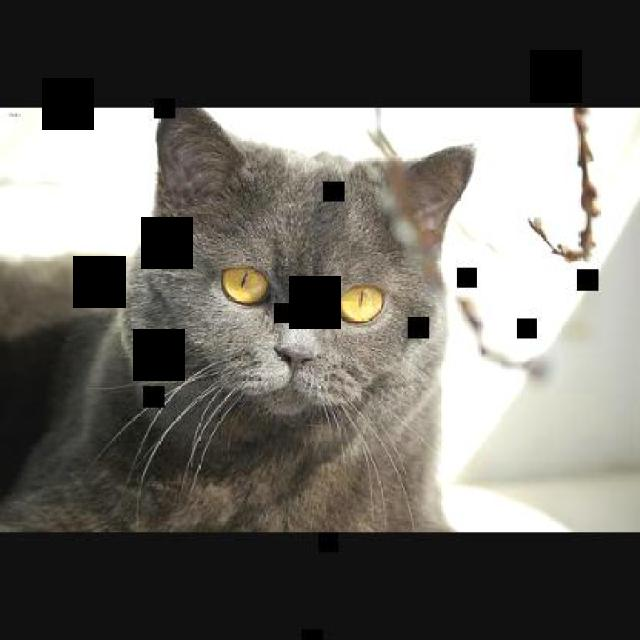unauthorized: (0, 106, 477, 532)
